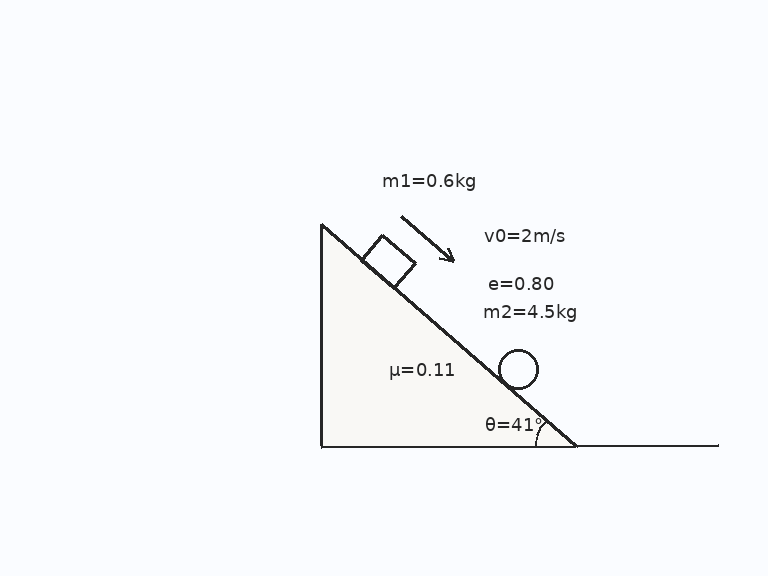ball: (496, 347, 540, 391)
block: (359, 233, 418, 290)
ramp: (318, 222, 578, 448)
